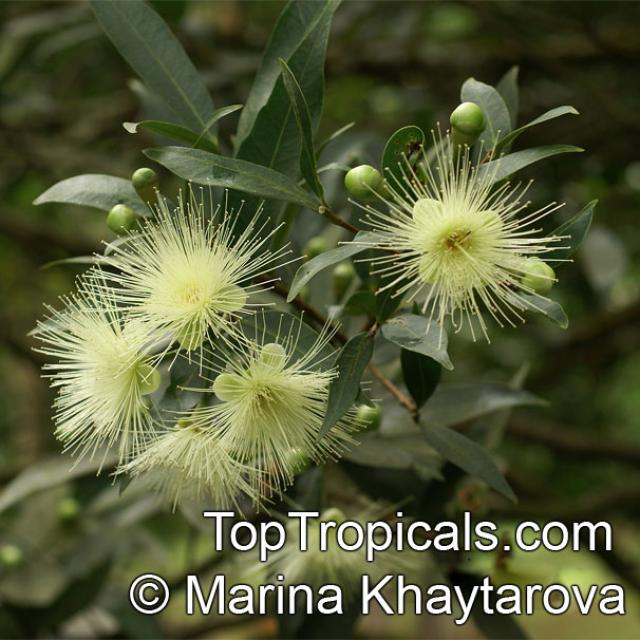Medicinal-Rose Apple: (17, 0, 640, 514)
